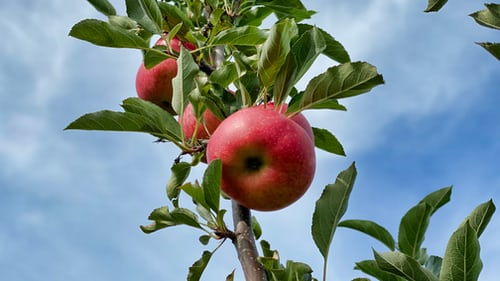apple: (207, 104, 316, 211), (134, 51, 183, 113), (177, 92, 225, 151)
